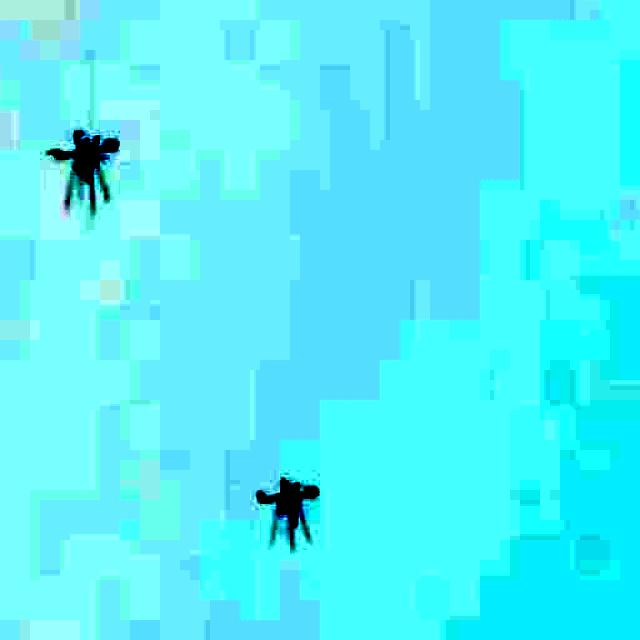bird: (240, 442, 351, 551), (42, 105, 148, 192)
